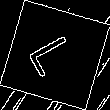L_NE: (26, 29, 84, 81)
